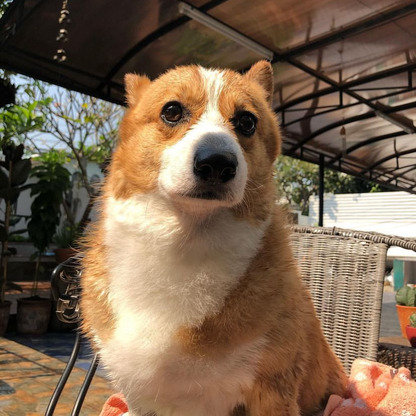Corgi: (79, 47, 337, 390)
